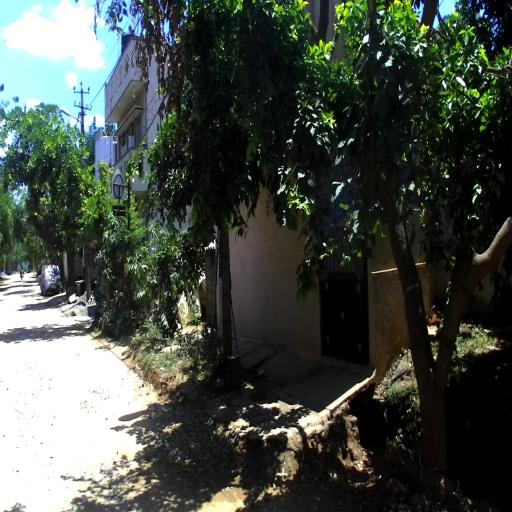street_light_0: (60, 106, 85, 136)
